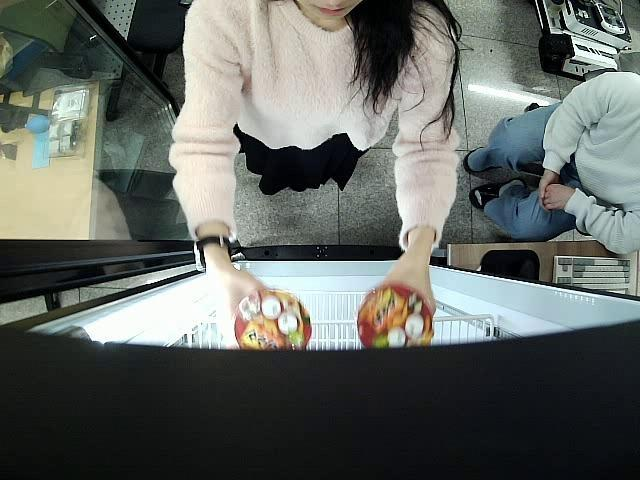06_nuguri_S: (232, 289, 312, 354), (354, 283, 432, 347)
